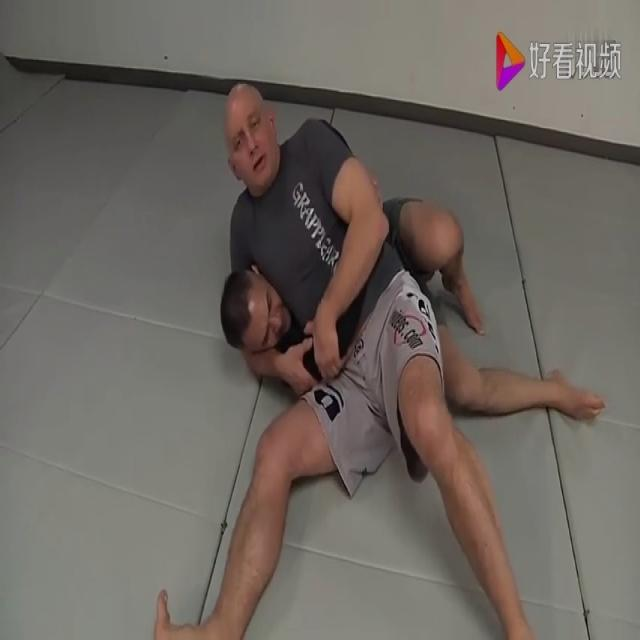fight: (140, 80, 623, 640)
